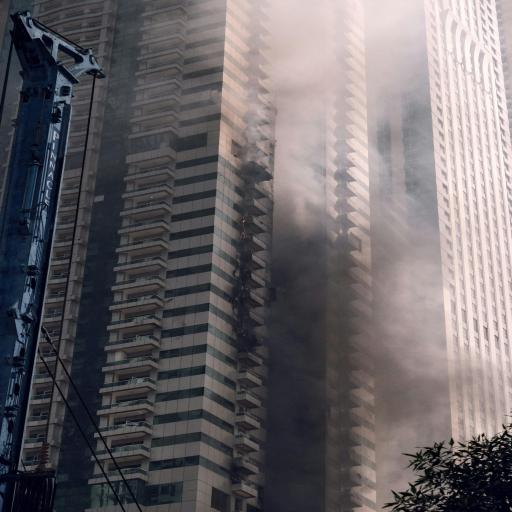buildingfire: (148, 168, 382, 512)
smoke: (219, 0, 512, 454)
